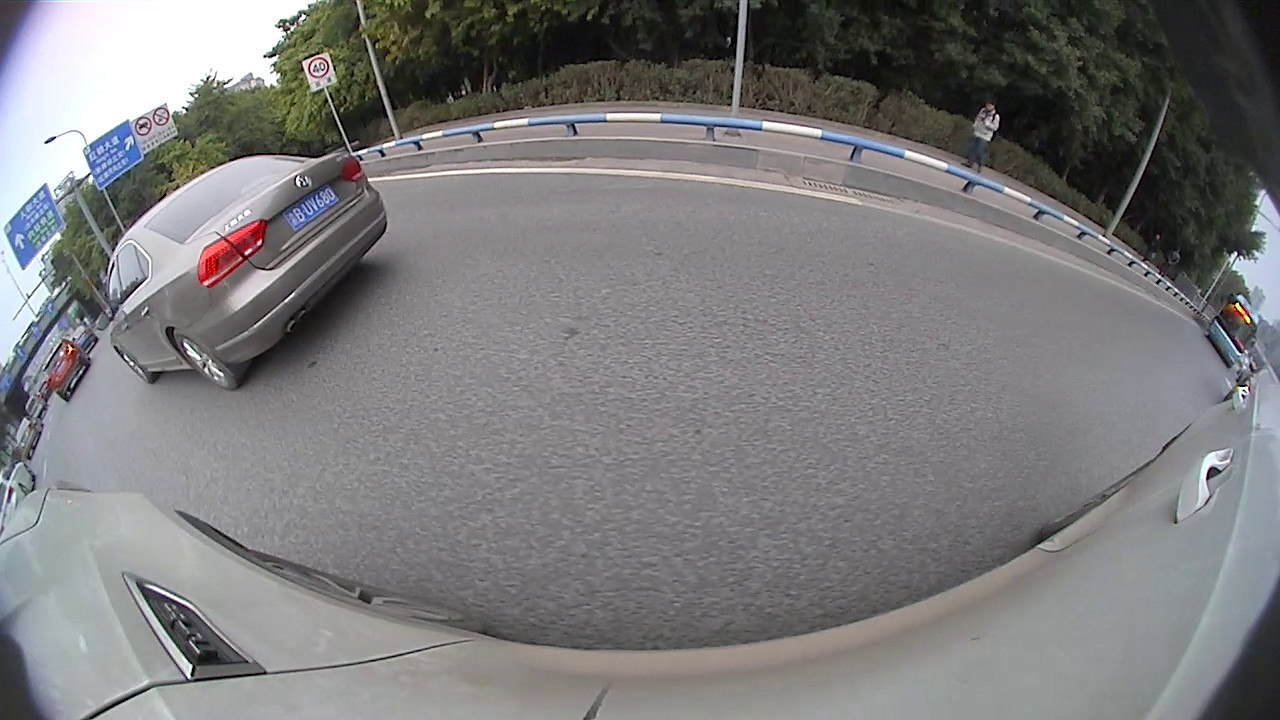car: (35, 250, 242, 390), (227, 172, 438, 287), (480, 142, 577, 213), (578, 148, 664, 206), (665, 158, 718, 190)
front: (214, 265, 250, 303), (412, 202, 435, 233), (462, 191, 472, 205)
rear: (89, 336, 132, 383), (316, 229, 351, 274), (548, 176, 558, 207), (431, 197, 441, 213)
